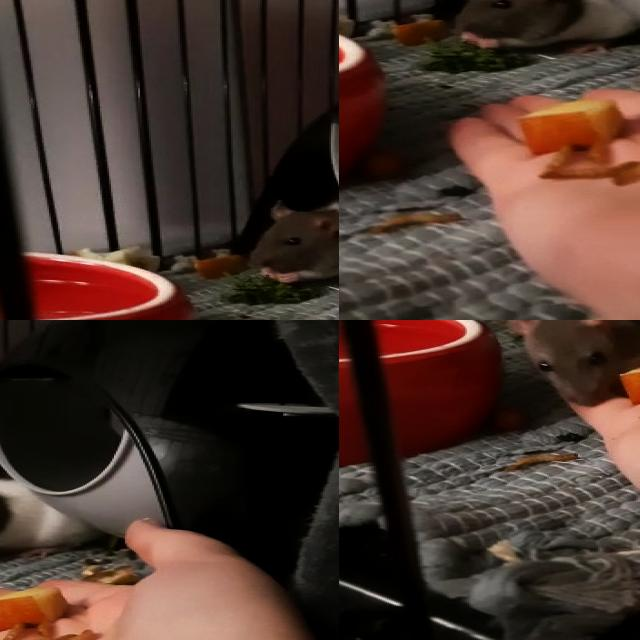rat: (510, 320, 640, 408), (456, 0, 636, 56), (0, 477, 86, 573), (249, 200, 339, 289)
